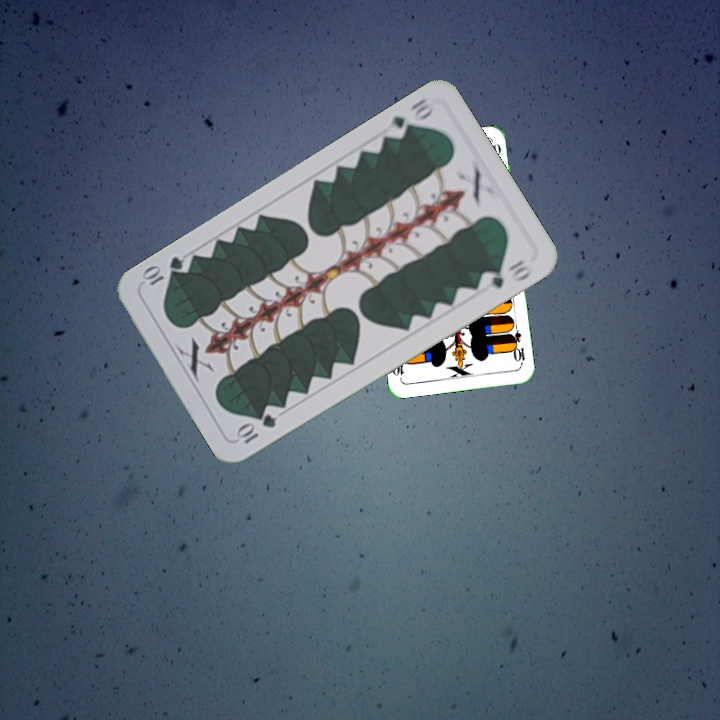E10: (506, 327, 528, 368)
G10: (381, 94, 439, 142), (232, 410, 279, 447)
